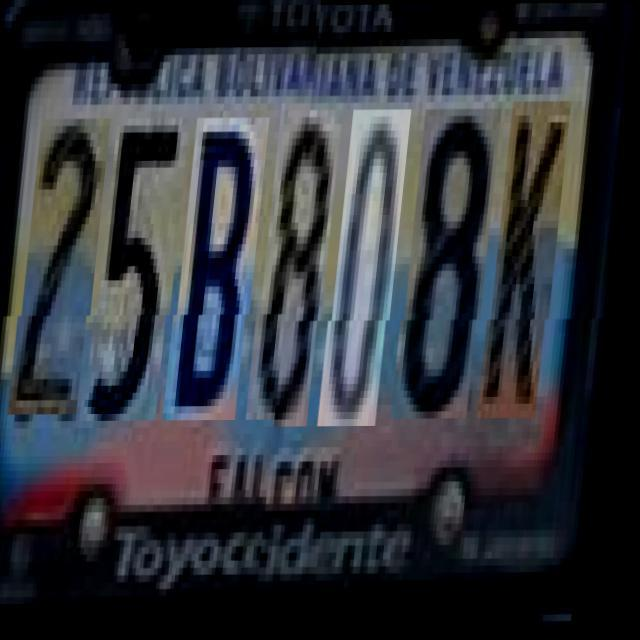2: (19, 126, 112, 422)
5: (96, 125, 192, 428)
8: (403, 110, 504, 420), (258, 110, 345, 428)
B: (175, 125, 272, 428)
K: (489, 102, 574, 419)
O: (330, 110, 414, 427)
